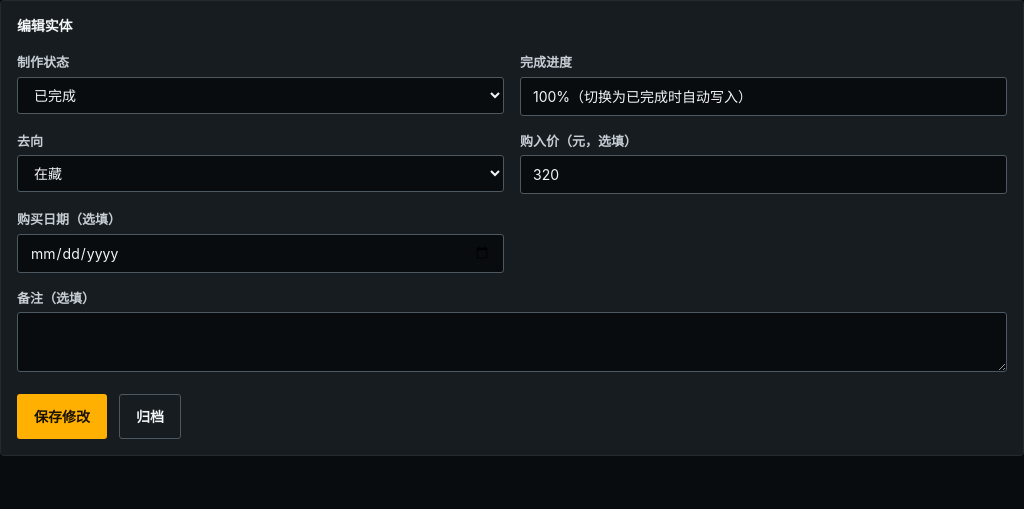
Test case: AssetEditForm 组件 › 服务端校验失败时展示错误信息
This screenshot has width=1024, height=509.
Click the button with test id "asset-save" at x=62, y=416, box [17,394,107,439]
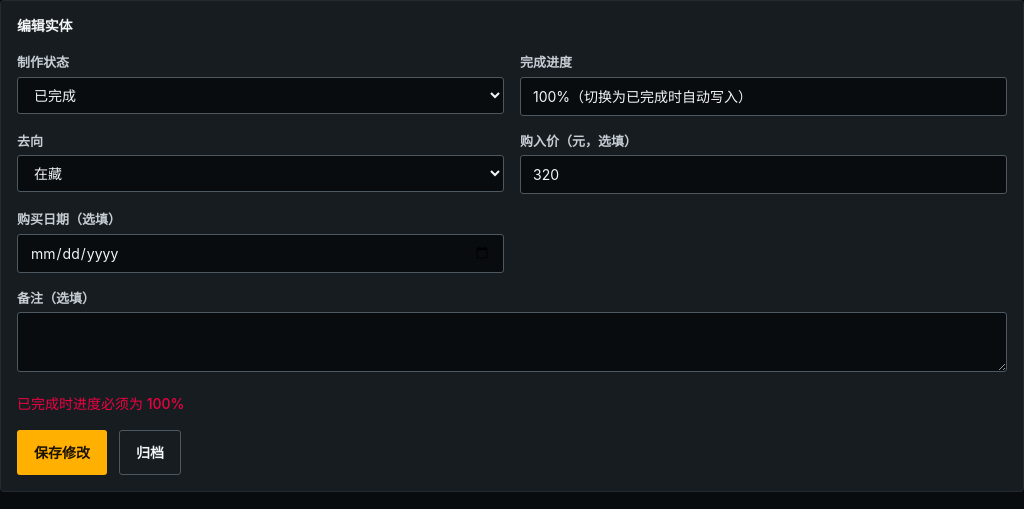
Expected: the message with test id "edit-error" shows "100%", [17,395,184,412]
